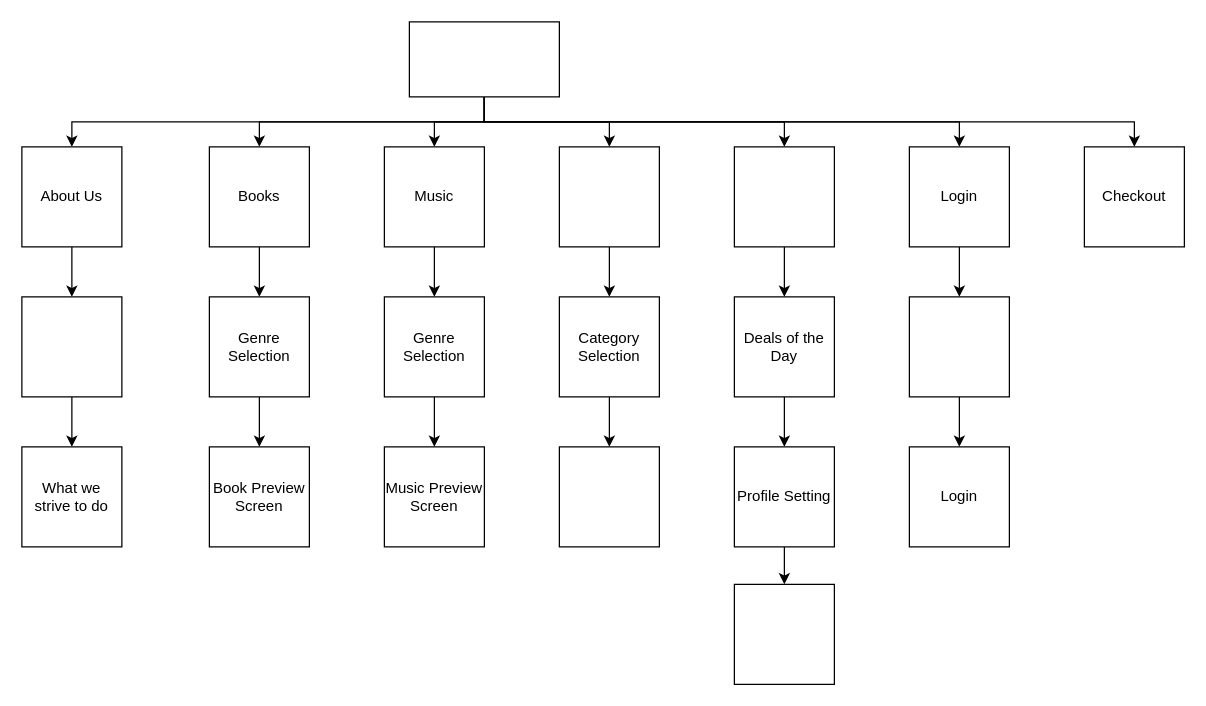
Image size: 1206x706. Some labels were removed from this diagram. Here are the shapes that lost their labels. From the top down, the box of each, then its label:
(408, 21, 559, 97): Online Bookstore
(558, 146, 659, 247): Collectibles
(733, 146, 834, 247): Membership
(21, 296, 122, 397): History
(908, 296, 1009, 397): Register
(558, 446, 659, 547): Collectibles Preview
(733, 583, 834, 684): Benefits
